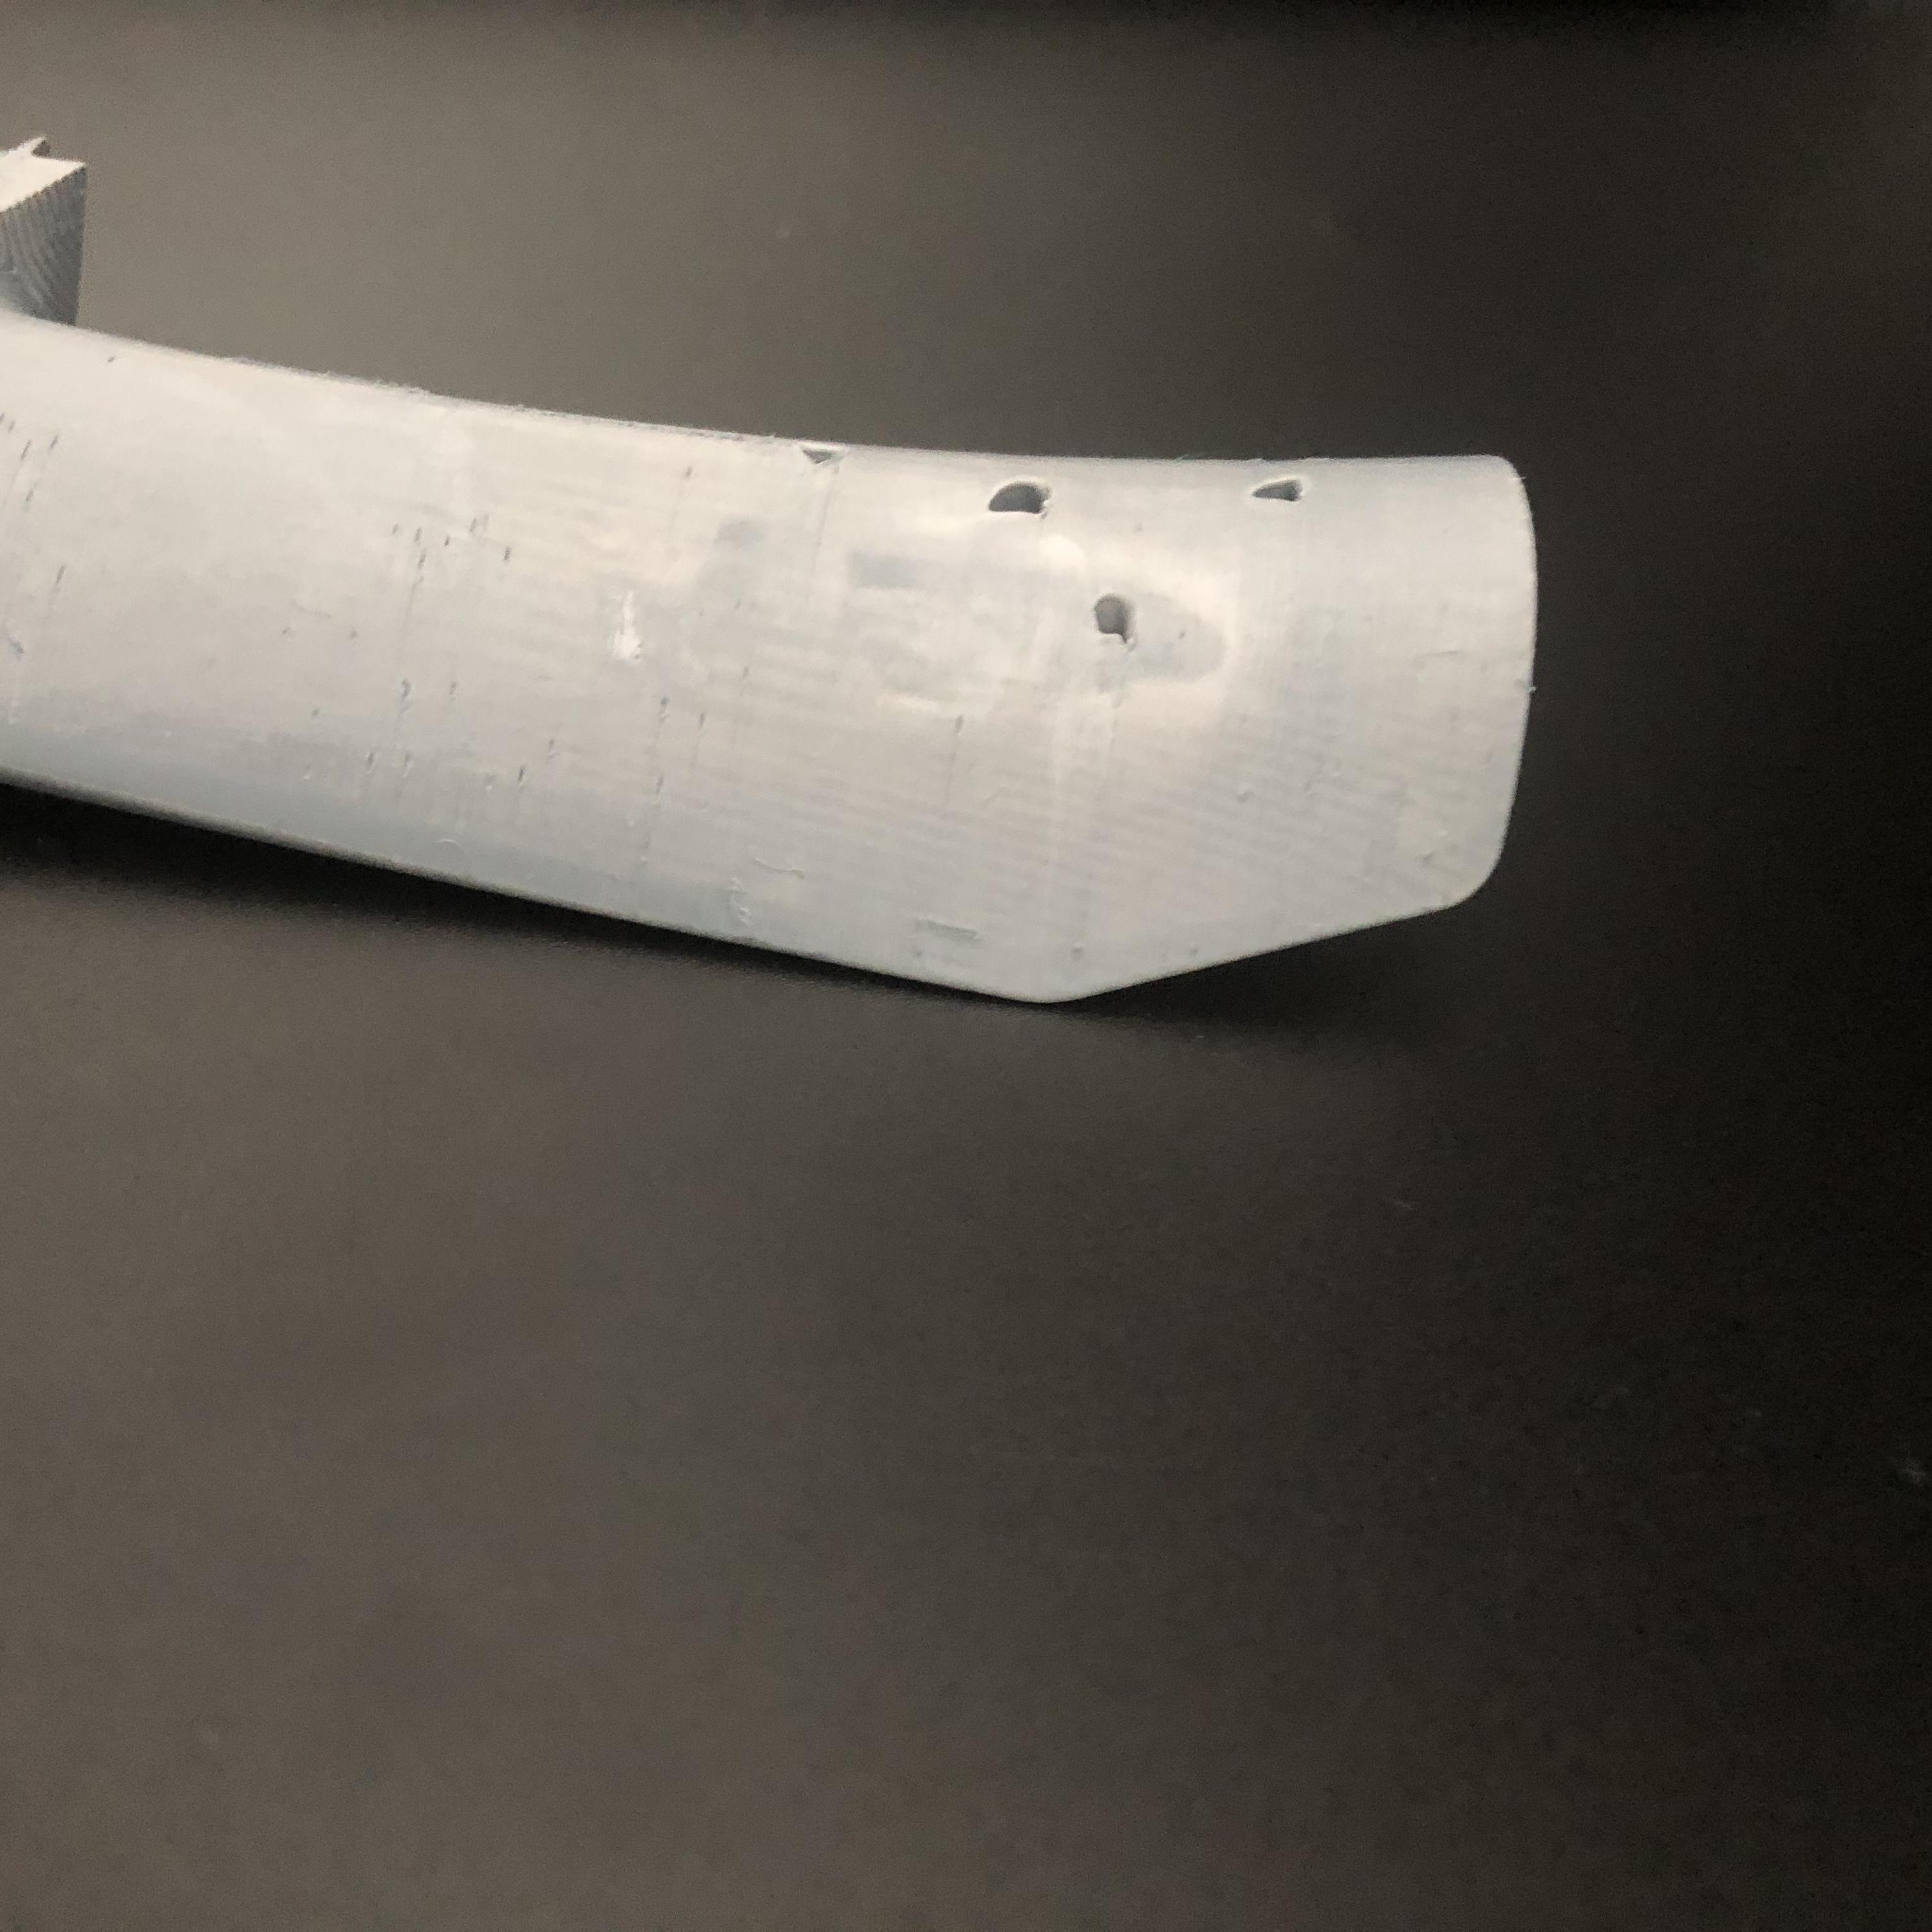breakdown: (793, 437, 1070, 531), (1235, 460, 1336, 520), (1076, 586, 1152, 662)
